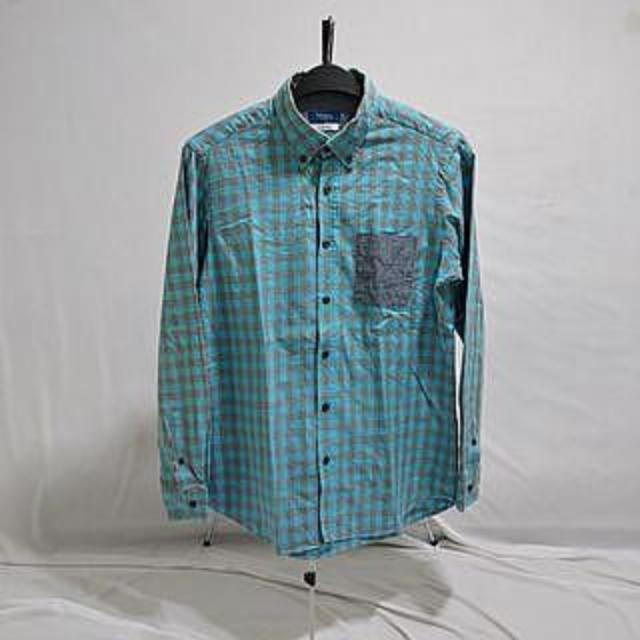SHIRT: (137, 55, 493, 570)
